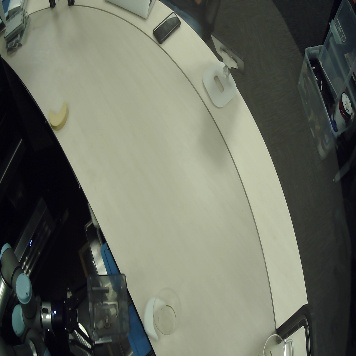empty_cup: (153, 287, 181, 336)
puck: (143, 296, 167, 341), (49, 102, 69, 129)
